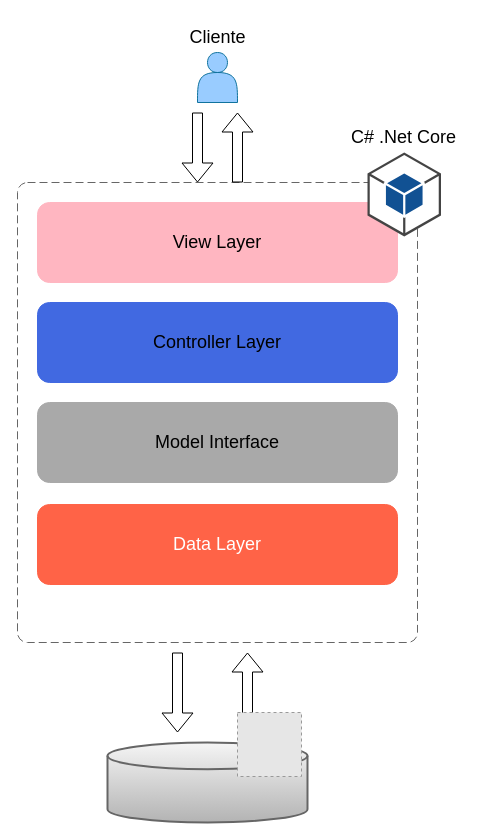
The diagram is 488 pixels wide and 840 high, and some of its shapes have lost their labels. Grey dashed boxes stand in for pictures. The box of each missing label's shape, as (x1, y1, x2, y2) in pixels:
DATABASE: (106, 741, 308, 823)
Geek Shopping [Monolith]: (16, 182, 418, 642)
